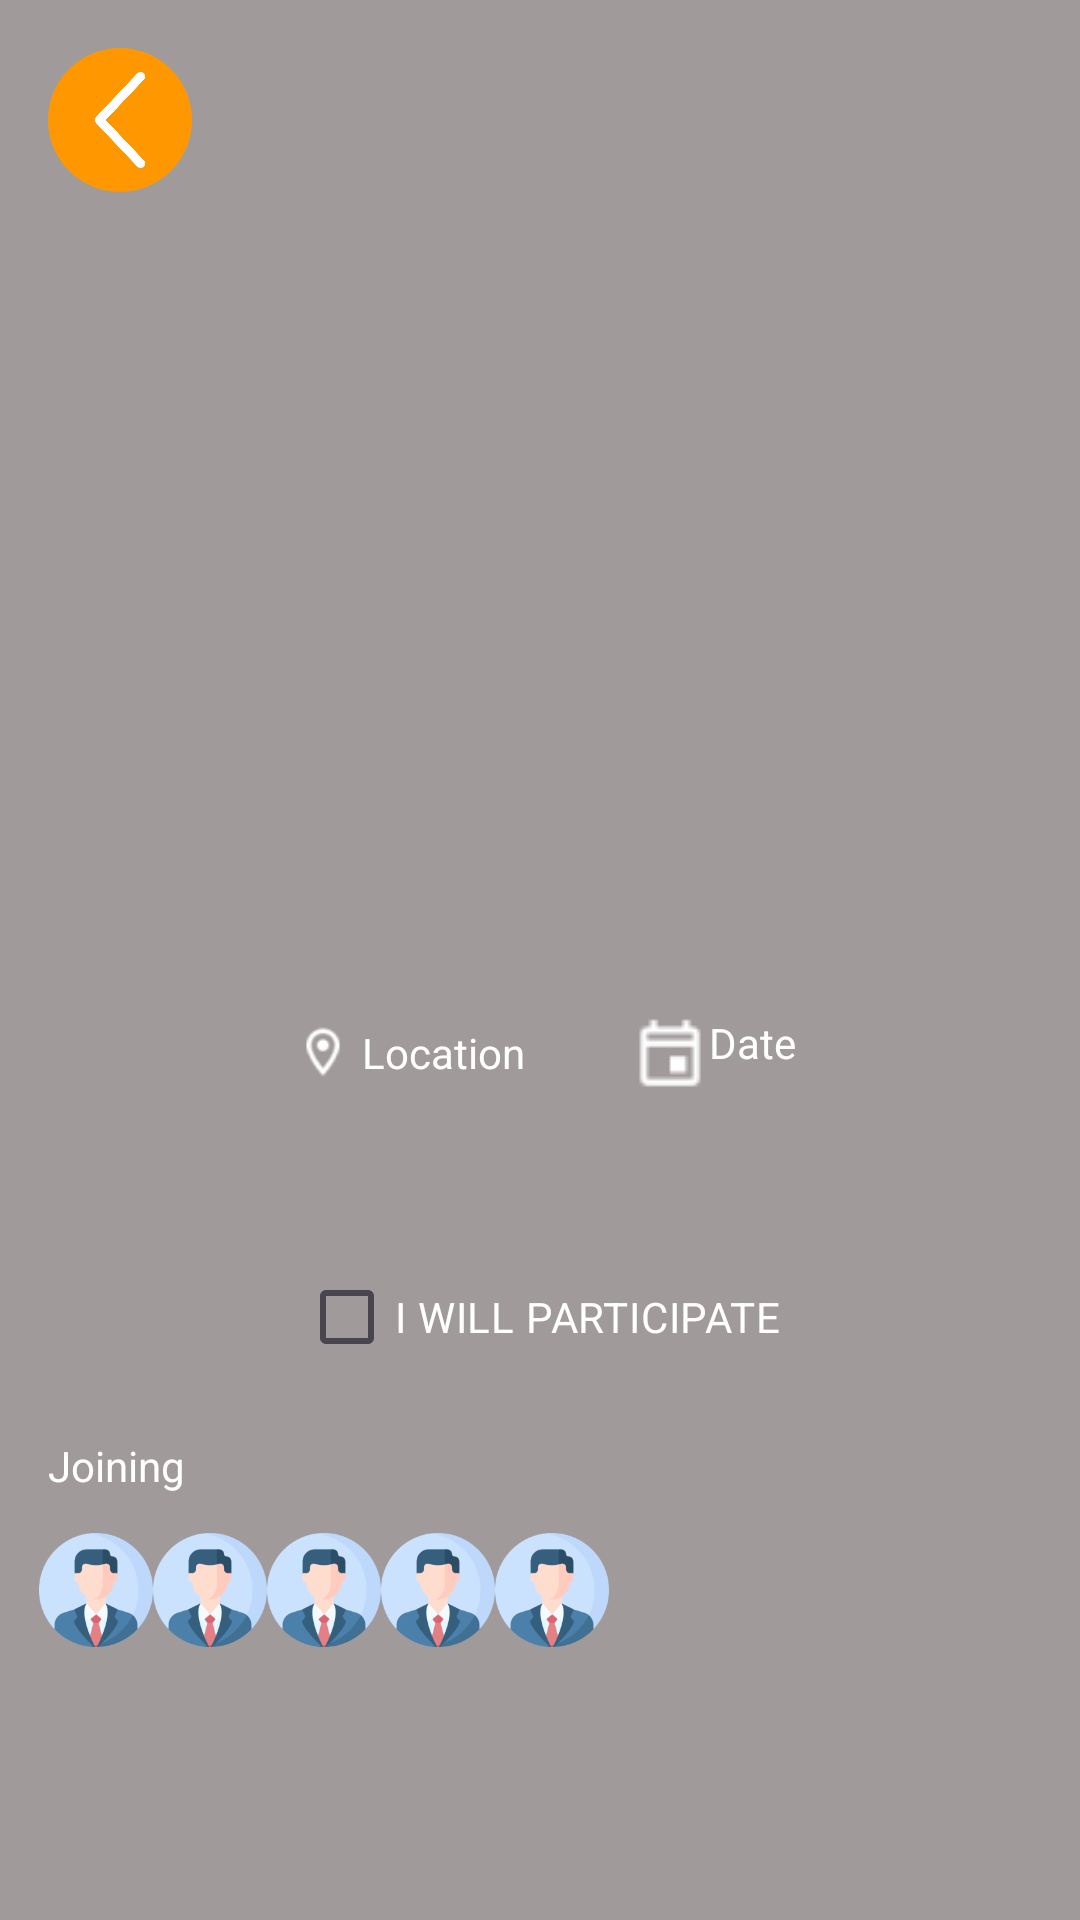

Screen size 1080*1920. Icon name, then its box in pixels as box=[x1, y1, x2, y2]:
imgprofile: box=[39, 1533, 153, 1647], box=[153, 1533, 267, 1647], box=[267, 1533, 381, 1647], box=[381, 1533, 495, 1647], box=[495, 1533, 609, 1647]
